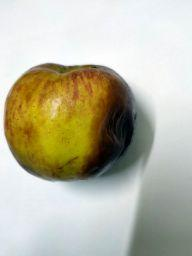Apple Semirotten: (5, 54, 141, 189)
